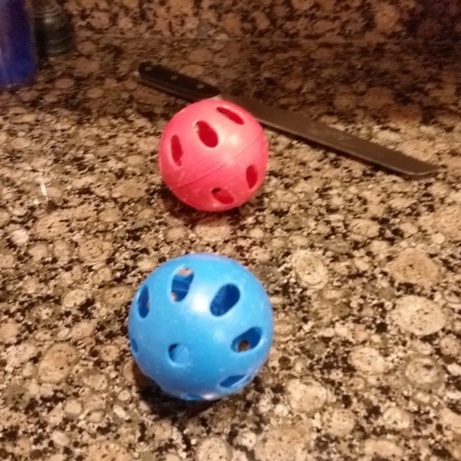ball: (125, 250, 277, 404), (154, 94, 270, 213)
